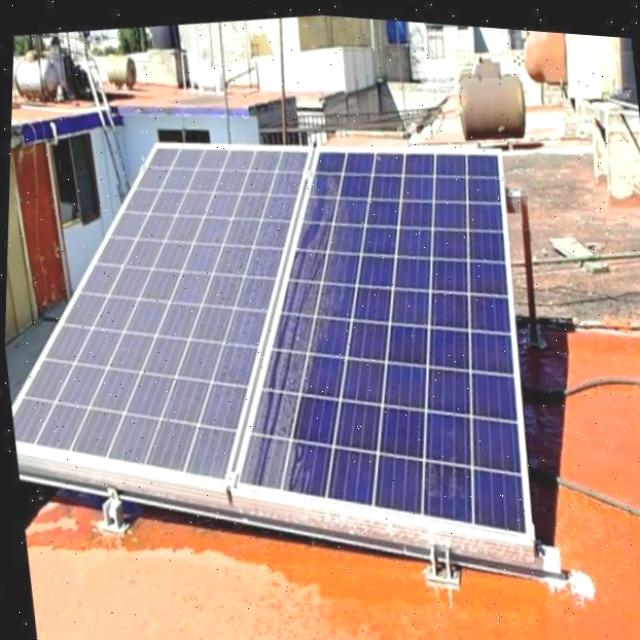Normal Solar Panel: (271, 122, 549, 556)
